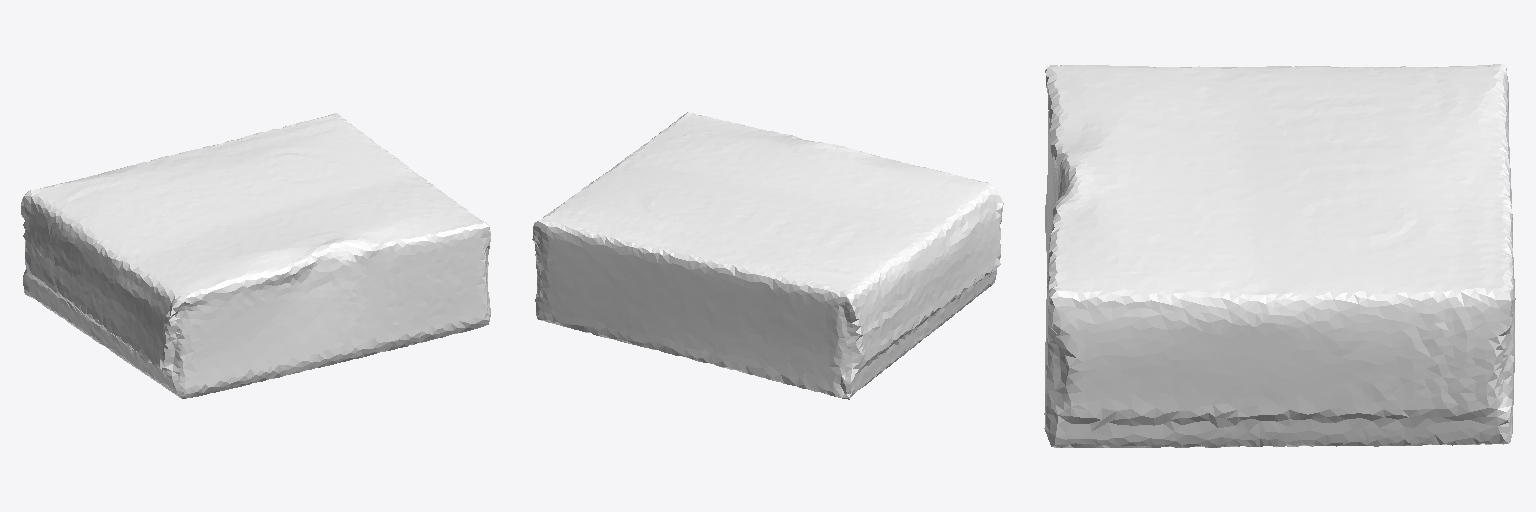
robot.urdf — model.urdf:
<?xml version="0.0" ?>
<robot name="model.urdf">
  <link name="baseLink">
    <contact>
      <friction_anchor/>
      <lateral_friction value="0.8"/>
      <spinning_friction value="0.001"/>
      <rolling_friction value="0.001"/>
      <contact_cfm value="0.0"/>
      <contact_erp value="1.0"/>
    </contact>
    <inertial>
       <origin rpy="0 0 0.1" xyz="0.005 0.005 -0.015"/>
       <mass value=".603"/>
       <inertia ixx="1e-3" ixy="0" ixz="0" iyy="1e-3" iyz="0" izz="1e-3"/>
    </inertial>
    <visual>
      <origin rpy="1.57 0 1.57" xyz="0 0 0"/>
      <geometry>
        <mesh filename="textured_simple_reoriented.obj" scale="1 1 1"/>
      </geometry>
      <material name="white">
        <color rgba="1. 1. 1. 1."/>
      </material>
    </visual>
    <collision>
      <origin rpy="1.57 0 1.57" xyz="0 0 0"/>
      <geometry>
    	 	<mesh filename="collision_vhacd.obj" scale="1 1 1"/>
      </geometry>
    </collision>
  </link>
</robot>

--- Facts derived from the render (not from the file) ---
Views: 3 orthographic renders of the robot side by side, from view 1: azimuth 30°, elevation 25°; view 2: azimuth 150°, elevation 25°; view 3: azimuth 270°, elevation 25°.
Robot: model.urdf — 1 links, 0 joints (none); root link baseLink; default pose: all joints at 0.
Links seen in each view (by area): view 1: baseLink; view 2: baseLink; view 3: baseLink.
Link boxes in pixels (<box>): baseLink: <box>21,113,490,398</box>; baseLink: <box>532,112,1003,399</box>; baseLink: <box>1044,64,1515,447</box>.
Size in the robot's own frame: 0.0892 by 0.073 by 0.03 metres.
Meshes: 1 distinct files referenced, 1 mesh visuals loaded (1 OBJ).